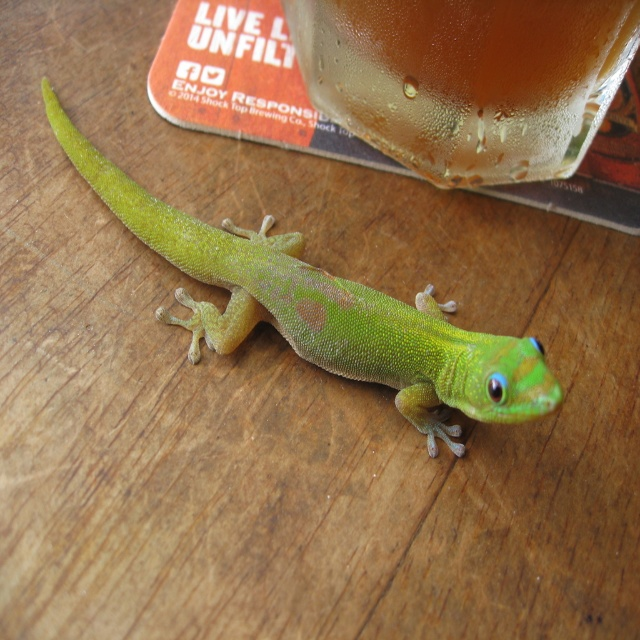Lizard: (46, 74, 562, 459)
